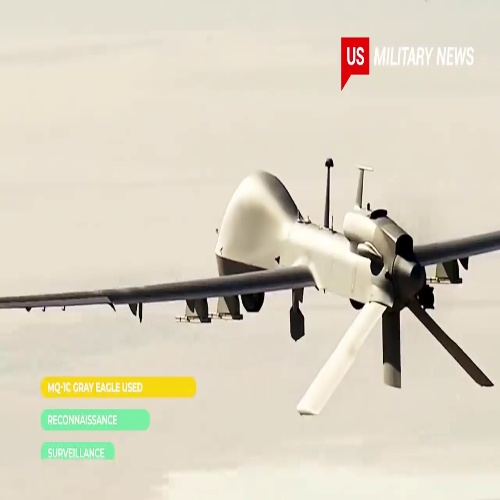uav55: (2, 159, 500, 414)
